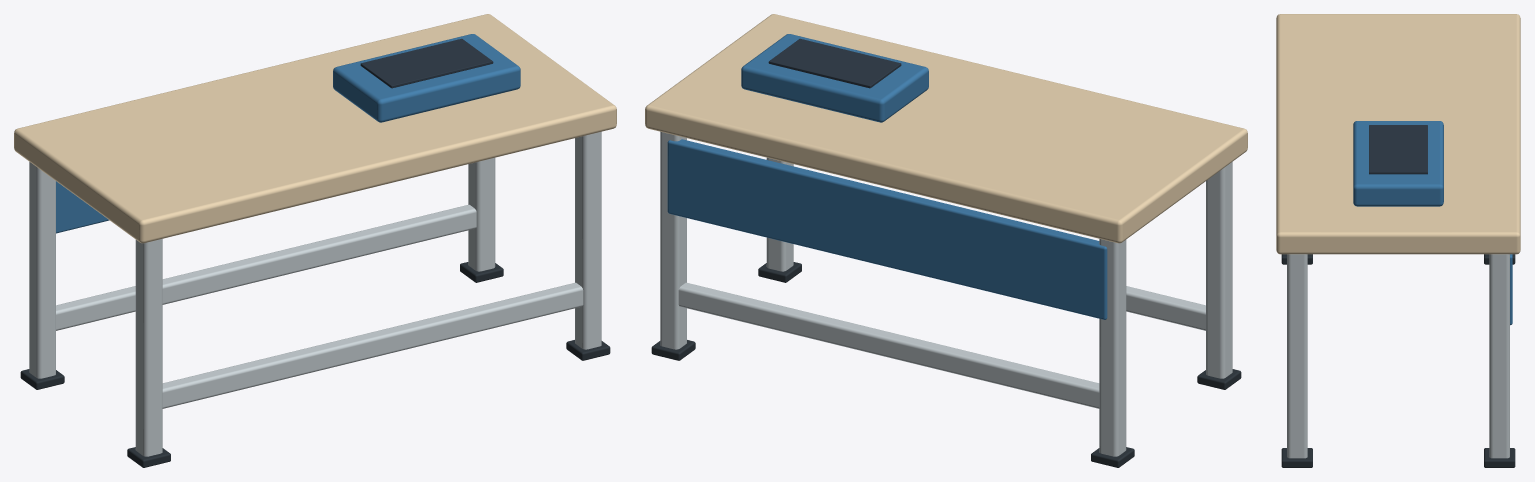
File: squash-club-and-racket-workshop-score-control-desk-6643e2c9__29746.glb
The picture shows the model from 3 angles, left to right: view 1: azimuth 30°, elevation 25°; view 2: azimuth 150°, elevation 25°; view 3: azimuth 270°, elevation 25°; orthographic projection. The views are drawn at different scales.
Parts seen in each view (by area): view 1: score-control-desk; view 2: score-control-desk; view 3: score-control-desk.
Part boxes in pixels (x1,y1,x2,y2): score-control-desk: [14, 14, 616, 467]; score-control-desk: [645, 14, 1247, 467]; score-control-desk: [1276, 14, 1520, 467].
Bounding box in the file's own units: 1.5 × 0.833 × 0.6999.
